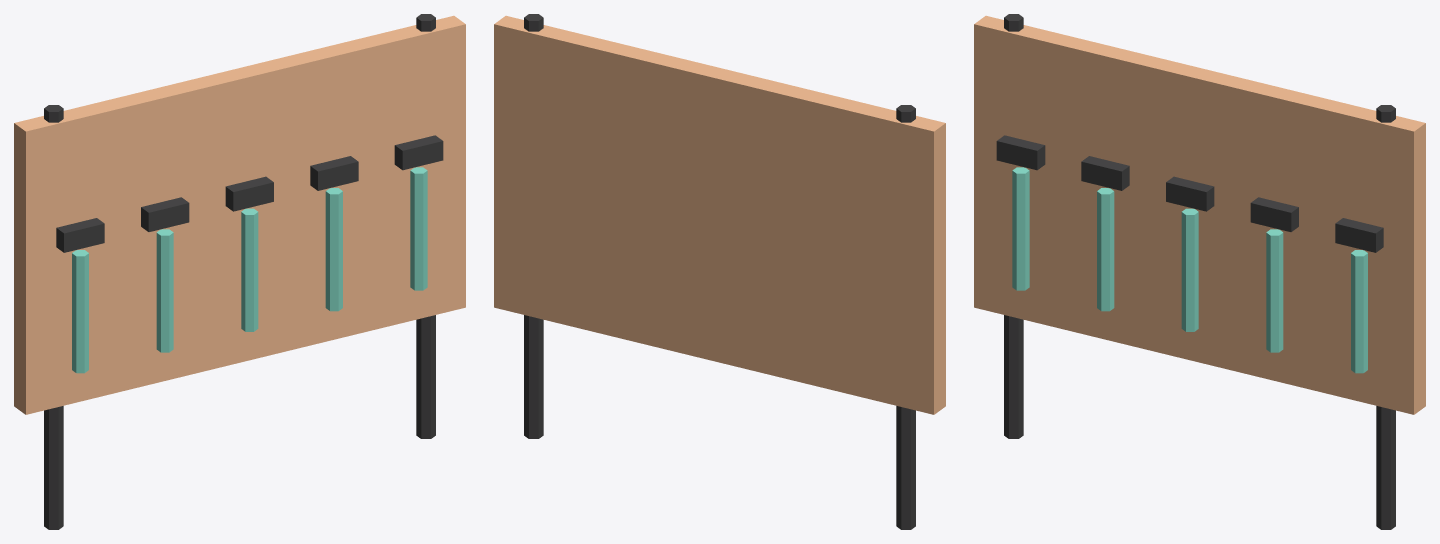
3 renders of one model, left to right at view 1: azimuth 30°, elevation 25°; view 2: azimuth 150°, elevation 25°; view 3: azimuth 330°, elevation 25°, orthographic.
Parts seen in each view (by area): view 1: Peg board, Frame, Frame.001, Tool handle.001, Tool handle.004, Tool handle.003, Tool handle.002, Tool handle, Tool head.004, Tool head.002, Tool head, Tool head.003 (+1 smaller); view 2: Peg board, Frame, Frame.001; view 3: Peg board, Frame.001, Frame, Tool handle, Tool handle.003, Tool handle.001, Tool handle.002, Tool handle.004, Tool head, Tool head.002, Tool head.001, Tool head.004 (+1 smaller).
Part boxes in pixels (bbox=[...]): Peg board: bbox=[14, 15, 465, 414]; Frame: bbox=[44, 105, 63, 529]; Frame.001: bbox=[416, 14, 435, 438]; Tool handle.001: bbox=[156, 229, 173, 352]; Tool handle.004: bbox=[410, 167, 427, 290]; Tool handle.003: bbox=[325, 188, 342, 311]; Tool handle.002: bbox=[241, 208, 258, 331]; Tool handle: bbox=[72, 250, 88, 373]; Tool head.004: bbox=[394, 135, 443, 170]; Tool head.002: bbox=[225, 176, 273, 211]; Tool head: bbox=[56, 218, 104, 252]; Tool head.003: bbox=[310, 156, 358, 190]; Peg board: bbox=[494, 15, 945, 414]; Frame: bbox=[896, 105, 915, 529]; Frame.001: bbox=[524, 14, 543, 438]; Peg board: bbox=[974, 15, 1425, 414]; Frame.001: bbox=[1376, 105, 1395, 529]; Frame: bbox=[1004, 14, 1023, 438]; Tool handle: bbox=[1012, 167, 1029, 290]; Tool handle.003: bbox=[1266, 229, 1283, 352]; Tool handle.001: bbox=[1097, 188, 1114, 311]; Tool handle.002: bbox=[1181, 208, 1198, 331]; Tool handle.004: bbox=[1351, 250, 1367, 373]; Tool head: bbox=[996, 135, 1045, 170]; Tool head.002: bbox=[1166, 176, 1214, 211]; Tool head.001: bbox=[1081, 156, 1129, 190]; Tool head.004: bbox=[1335, 218, 1383, 252].
Bounding box in the file's own units: 130 × 118 × 10.2.
